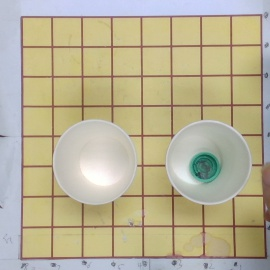cup: (52, 119, 139, 206)
cup_green: (166, 120, 253, 206)
